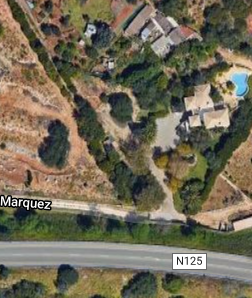pool: (229, 75, 248, 96)
